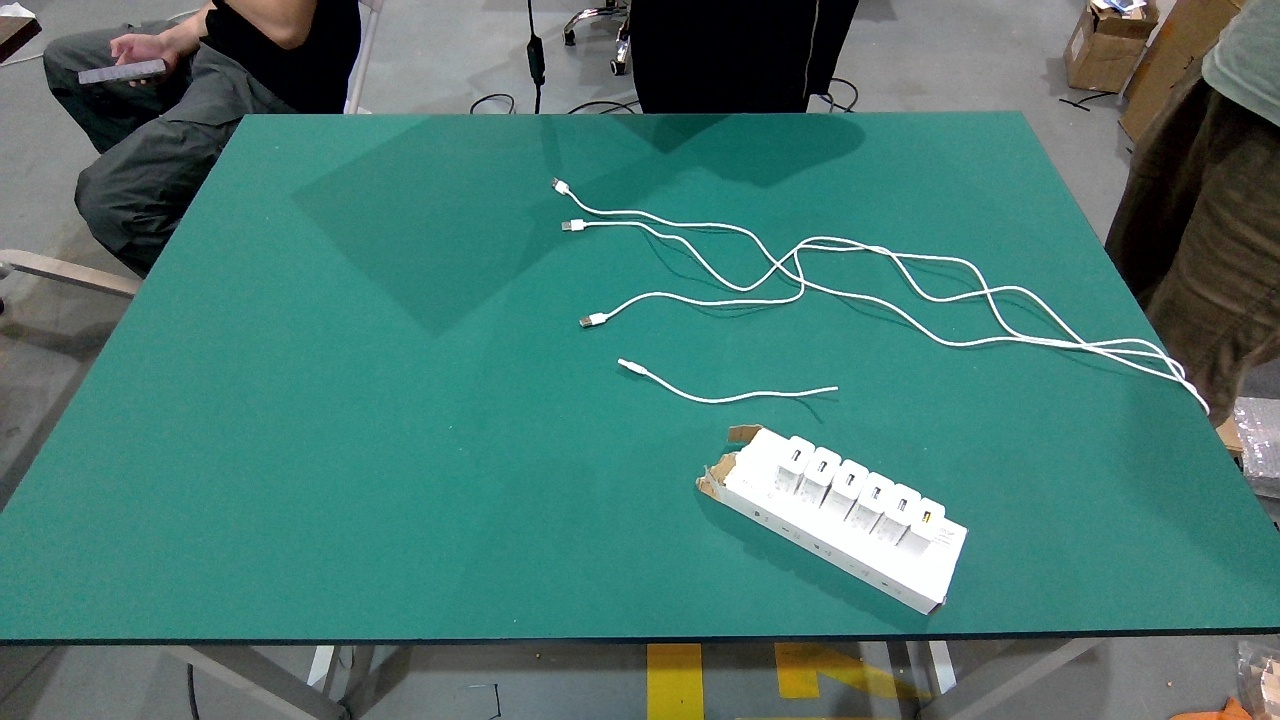usb_a_port: (920, 509, 933, 525), (896, 498, 909, 513), (870, 486, 882, 501), (816, 460, 828, 474), (844, 473, 855, 488), (791, 449, 802, 462)
